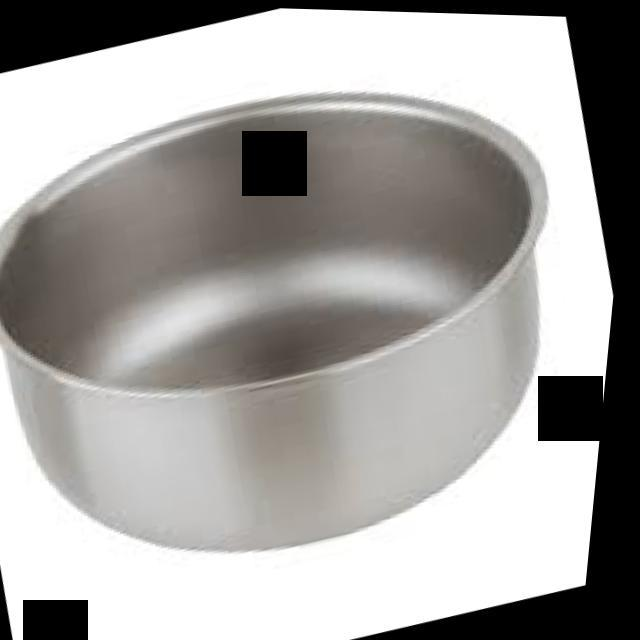Sponge Bowl: (0, 8, 639, 624)
